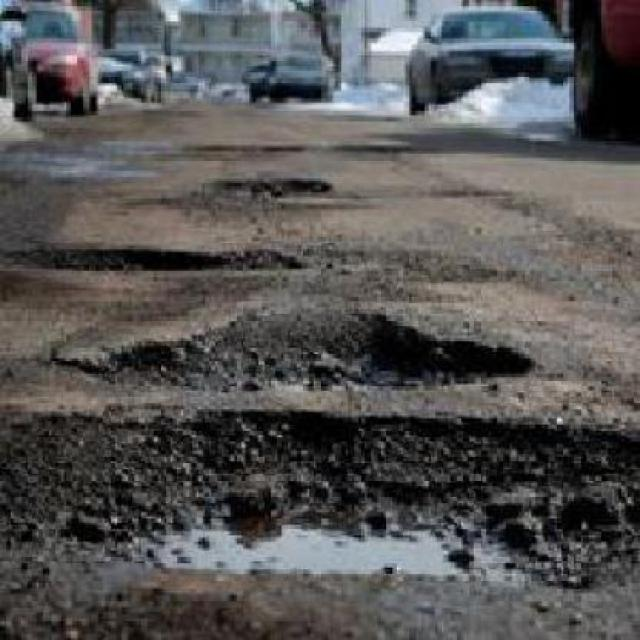Pothole: (0, 408, 638, 610), (44, 306, 536, 396), (3, 237, 312, 273), (199, 171, 333, 203)
